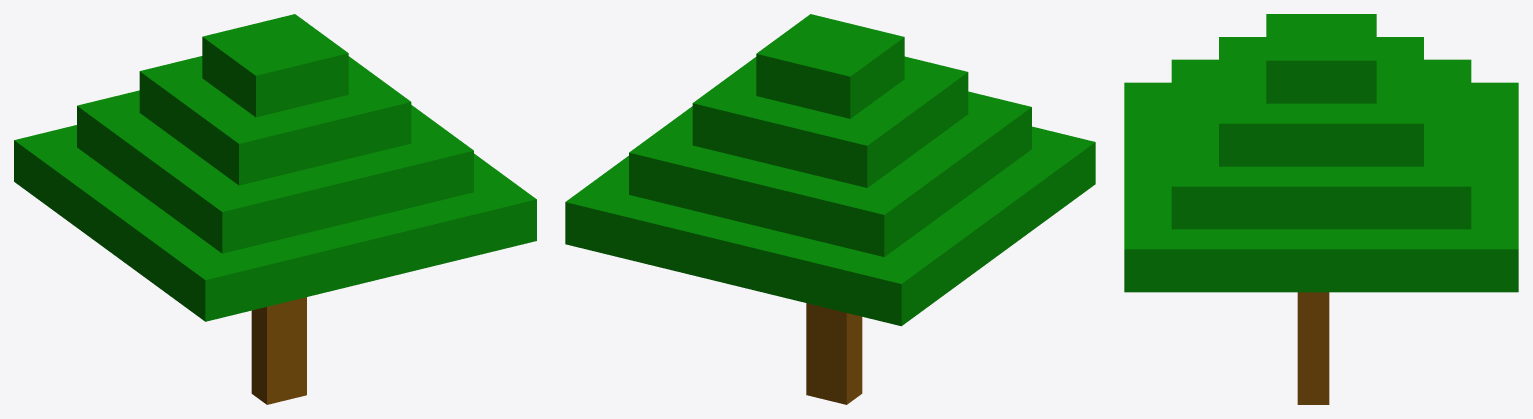
The model's file is tree.fbx.
3 views of the same model, side by side, from view 1: azimuth 30°, elevation 25°; view 2: azimuth 150°, elevation 25°; view 3: azimuth 270°, elevation 25° (orthographic). The views are drawn at different scales.
Visible parts, largest first — view 1: Matrix_1; view 2: Matrix_1; view 3: Matrix_1.
Boxes of the visible parts, x1,y1,x2,y2 form: Matrix_1: [14, 14, 536, 404]; Matrix_1: [565, 14, 1095, 404]; Matrix_1: [1124, 14, 1518, 404].
Bounding box in the file's own units: 25 × 25 × 25.
1 material, 1 textured.
